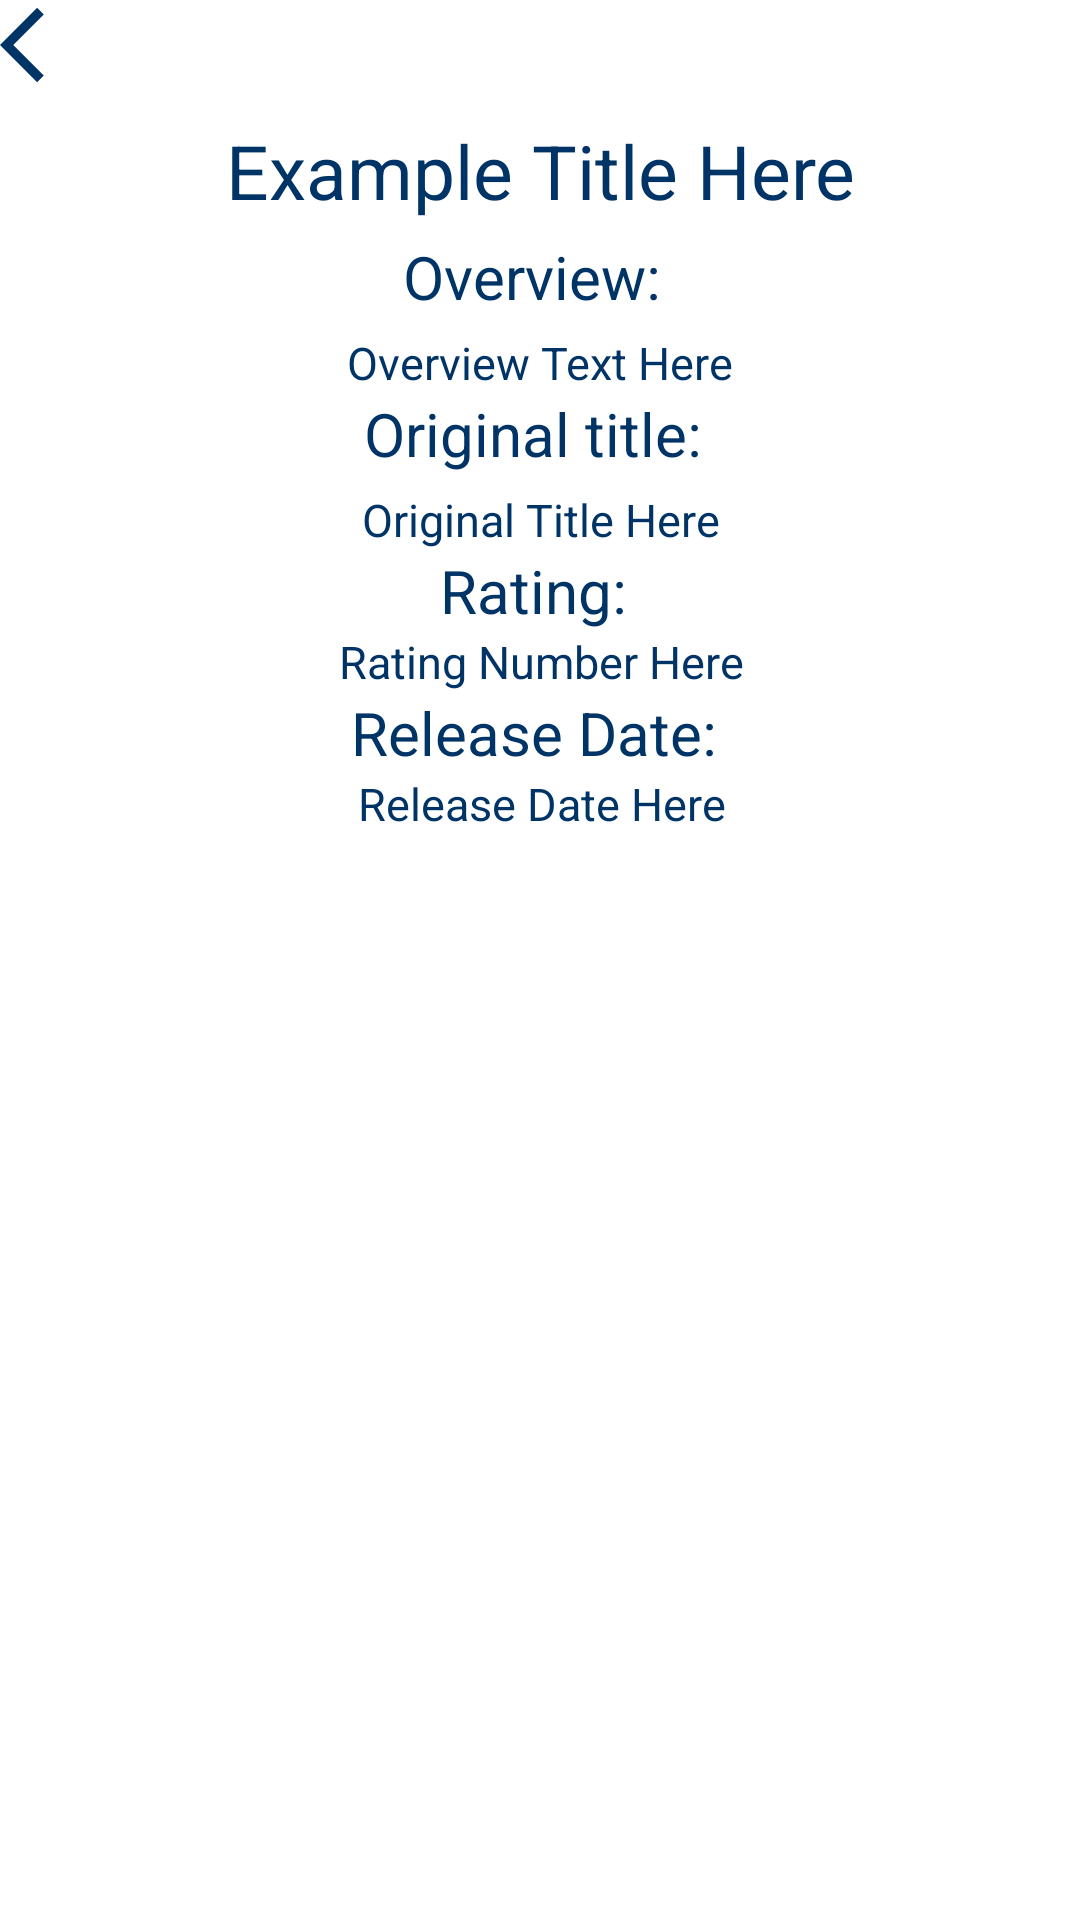

Named icons in this screenshot (1080x1920) and their centers, point (x, y):
arrow back: point (22, 45)
